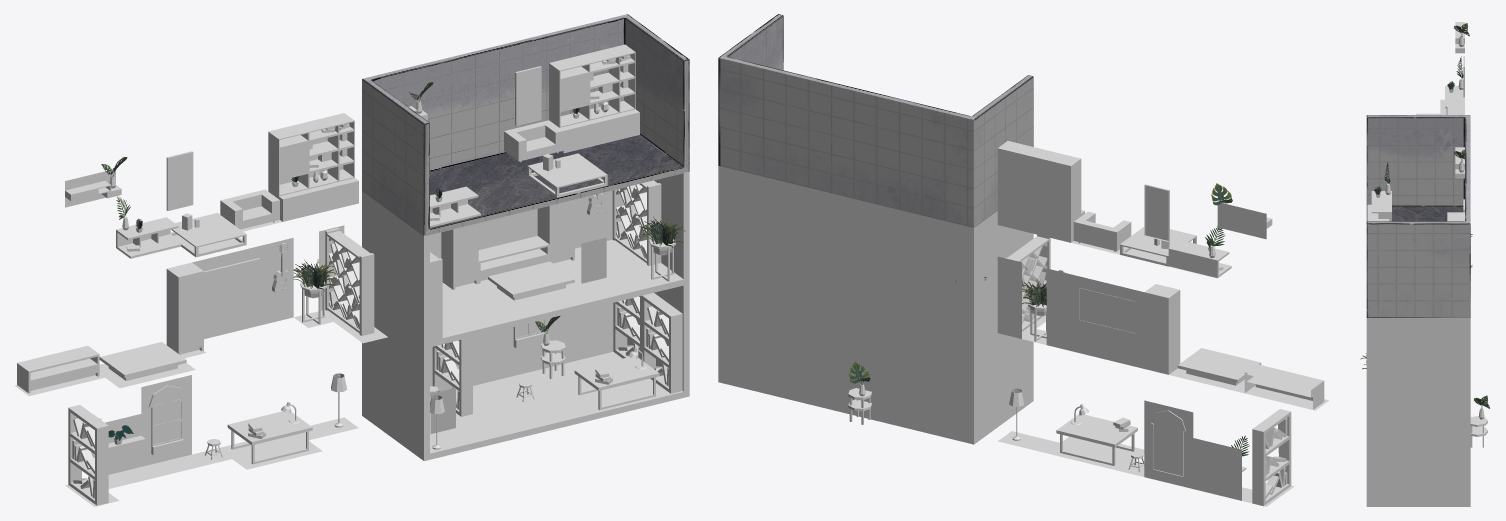
The model's file is Brick_small_table.fbx.
3 views of the same model, side by side, from view 1: azimuth 30°, elevation 25°; view 2: azimuth 150°, elevation 25°; view 3: azimuth 270°, elevation 25° (orthographic). The views are drawn at different scales.
Visible parts, largest first — view 1: Cube.054, Cube, Cube.027, Plane.005, Plane.010, Cube.019, Cube.036, Cube.058, Cube.083, Cube.045, Cube.087, Cube.002 (+26 smaller); view 2: Cube.054, Cube, Cube.027, Cube.036, Cube.018, Cube.087, Plane.009, Cube.019, Cube.066, Plane.005, Cube.106, Cube.119 (+7 smaller); view 3: Cube.054, Cube.027, Cube, Plane.006, Cube.001, Plane.009, Cube.121, Plane.005, Cube.120, Plane.010.
Boxes of the visible parts, x1,y1,x2,y2 form: Cube.054: (362, 14, 689, 236); Cube: (362, 284, 689, 461); Cube.027: (362, 172, 689, 348); Plane.005: (268, 113, 358, 221); Plane.010: (549, 44, 639, 153); Cube.019: (325, 228, 374, 335); Cube.036: (68, 405, 108, 505); Cube.058: (642, 293, 682, 393); Cube.083: (166, 262, 203, 354); Cube.045: (612, 180, 661, 265); Cube.087: (17, 345, 99, 393); Cube.002: (432, 337, 472, 416); Cube.054: (718, 14, 1033, 227); Cube: (718, 274, 1033, 444); Cube.027: (718, 166, 1033, 336); Cube.036: (1252, 409, 1291, 506); Cube.018: (1056, 404, 1137, 465); Cube.087: (1244, 364, 1324, 409); Plane.009: (1168, 226, 1231, 277); Cube.019: (1005, 234, 1050, 331); Cube.066: (1177, 348, 1261, 385); Plane.005: (998, 141, 1084, 242); Cube.106: (1073, 211, 1131, 251); Cube.119: (1144, 184, 1169, 241); Cube.054: (1366, 115, 1470, 317); Cube.027: (1366, 318, 1470, 412); Cube: (1366, 412, 1470, 506); Plane.006: (1367, 162, 1391, 221); Cube.001: (1470, 395, 1489, 447); Plane.009: (1440, 56, 1463, 113); Cube.121: (1454, 22, 1469, 53); Plane.005: (1447, 97, 1464, 114); Cube.120: (1454, 147, 1464, 178); Plane.010: (1447, 212, 1464, 221).
Size of the model in its own units: 4883 by 2538 by 1082.
